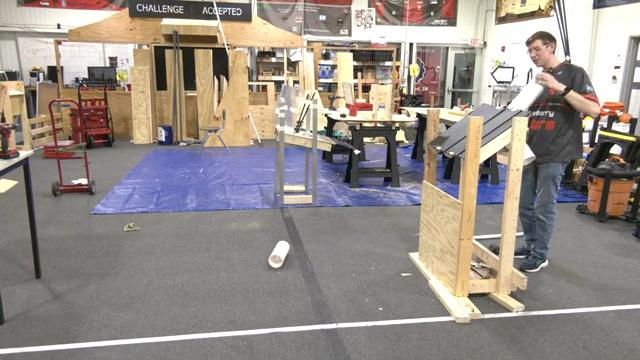CORAL: (508, 82, 543, 111), (268, 240, 289, 269)
